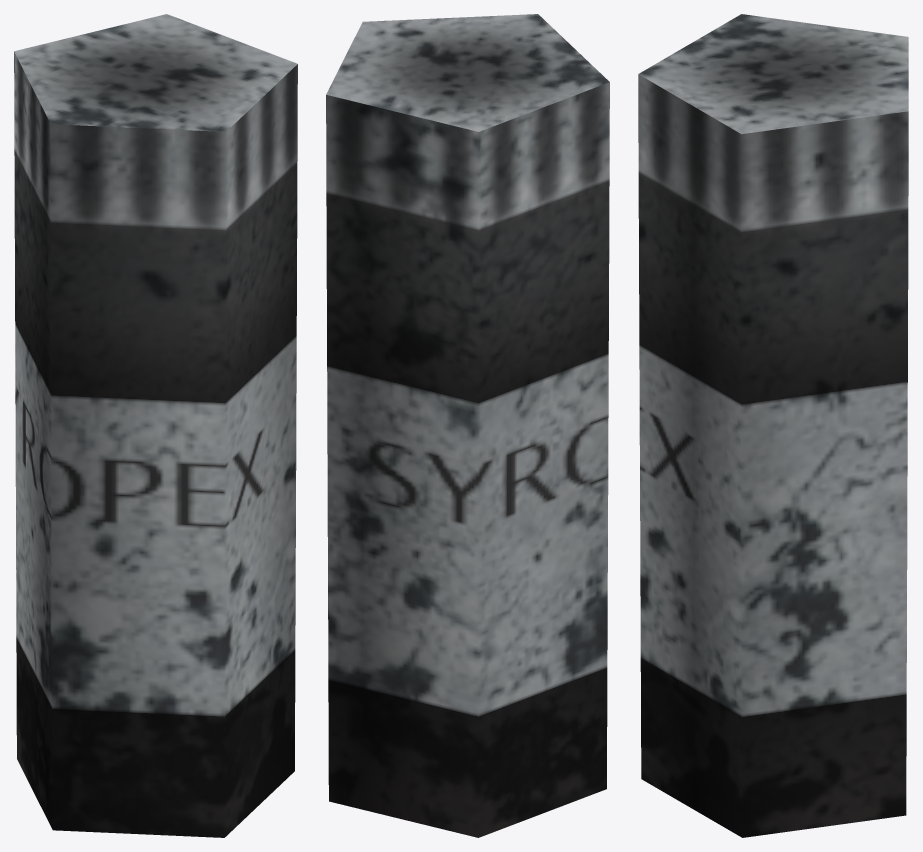
Rendered from medicine_tiny_B.fbx.
The picture shows the model from 3 angles, left to right: view 1: azimuth 30°, elevation 25°; view 2: azimuth 150°, elevation 25°; view 3: azimuth 270°, elevation 25°; orthographic projection.
Visible parts, largest first — view 1: medicine_tiny_B; view 2: medicine_tiny_B; view 3: medicine_tiny_B.
Boxes of the visible parts, box(x1,y1,x2,y2) form: medicine_tiny_B: box(14, 14, 297, 837); medicine_tiny_B: box(326, 14, 609, 837); medicine_tiny_B: box(638, 14, 908, 837).
Bounding box in the file's own units: 3.84 × 10.49 × 3.65.
